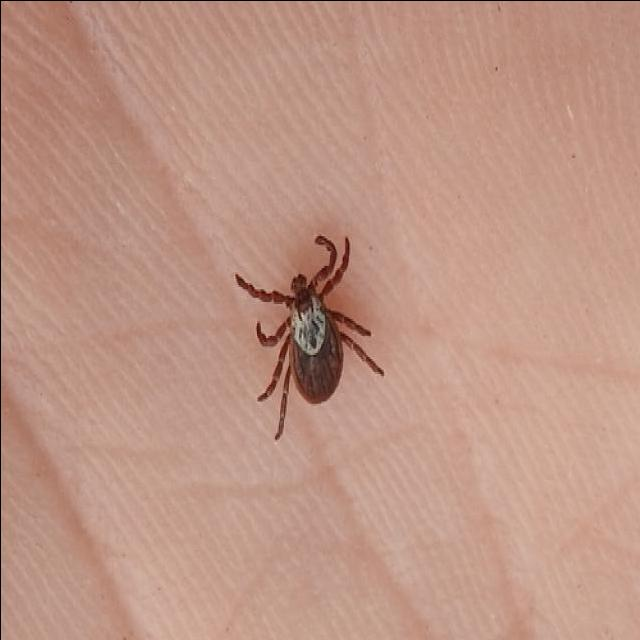Dermacentor Reticulatus-F: (236, 236, 383, 439)
